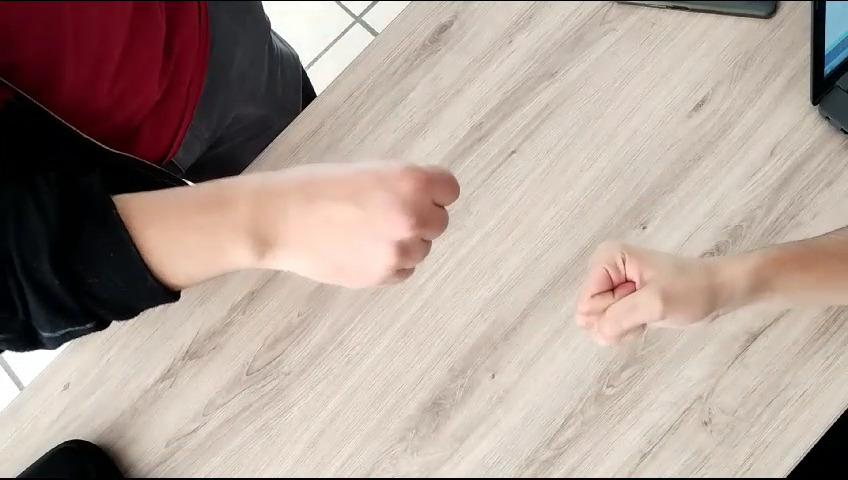Stone: (254, 142, 465, 306), (552, 217, 745, 356)
